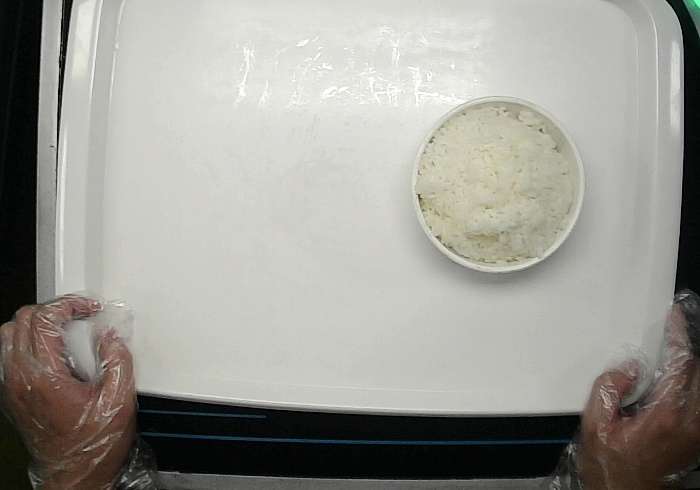HZYJPL-Fan_Wan: (411, 96, 587, 274)
